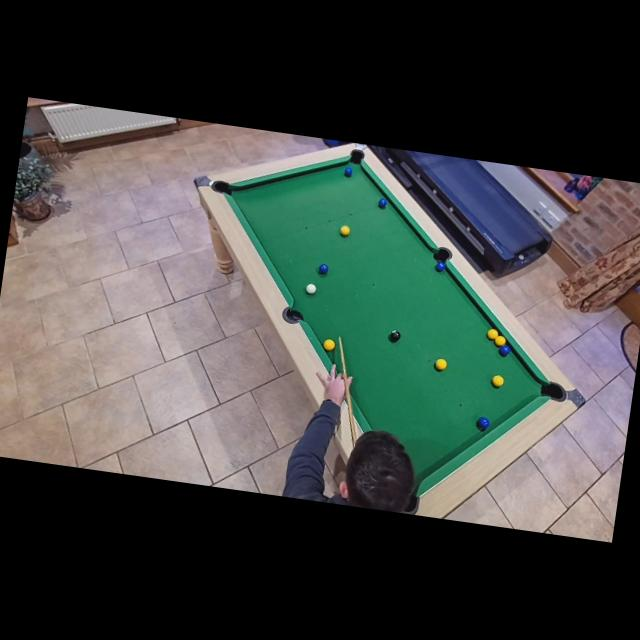Ball: (476, 416, 490, 431), (388, 329, 401, 342), (488, 329, 500, 342), (498, 345, 511, 357), (434, 261, 446, 273), (495, 338, 506, 350), (435, 359, 447, 370), (322, 340, 334, 351), (317, 263, 328, 275), (492, 376, 504, 387), (340, 225, 350, 236), (378, 198, 388, 209), (306, 284, 316, 295), (344, 168, 354, 178)
